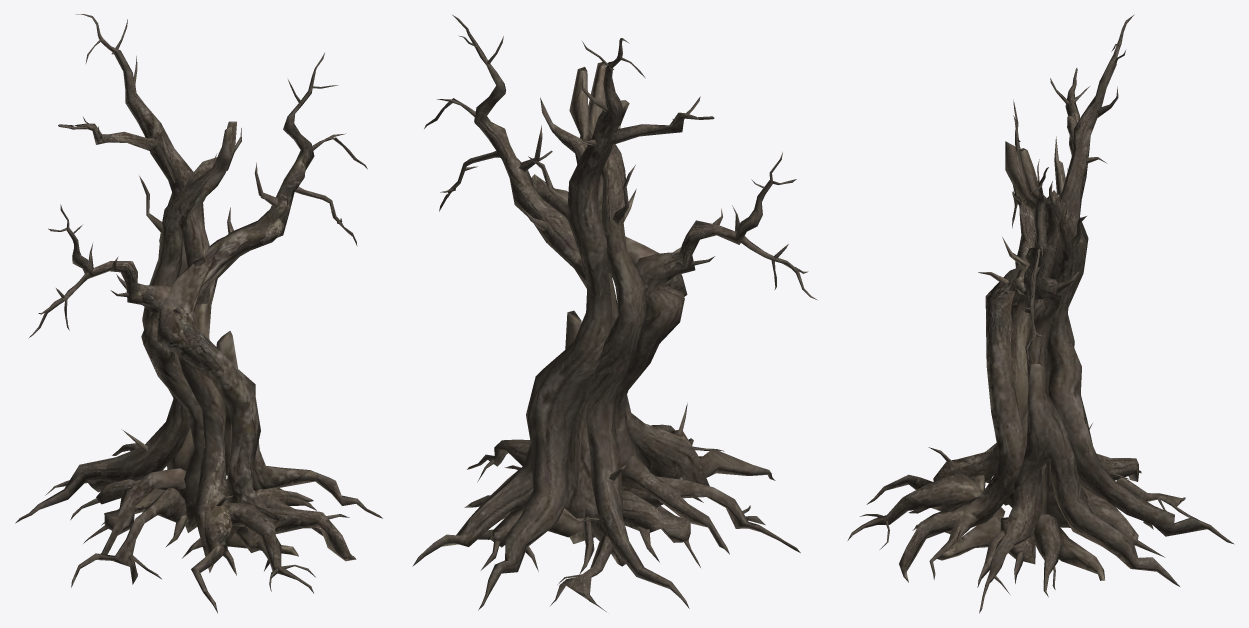
File: h_tree_dead_small.glb
The picture shows the model from 3 angles, left to right: view 1: azimuth 30°, elevation 25°; view 2: azimuth 150°, elevation 25°; view 3: azimuth 270°, elevation 25°; orthographic projection. The views are drawn at different scales.
Visible parts, largest first — view 1: h_tree_dead_small; view 2: h_tree_dead_small; view 3: h_tree_dead_small.
Part boxes in pixels (x1,y1,x2,y2): h_tree_dead_small: (15, 14, 382, 613); h_tree_dead_small: (412, 15, 816, 611); h_tree_dead_small: (847, 14, 1234, 613).
Bounding box in the file's own units: 2.18 × 2.99 × 2.14.
1 material, 1 textured.
